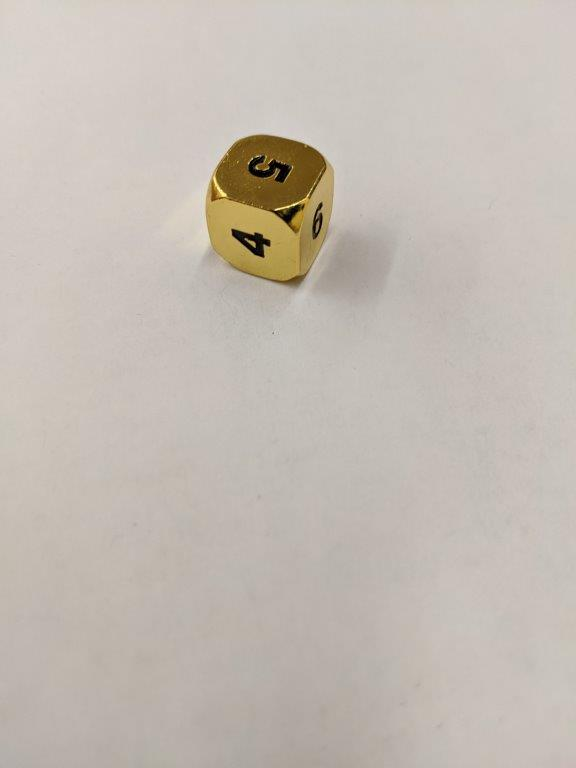d6-5: (201, 131, 336, 286)
